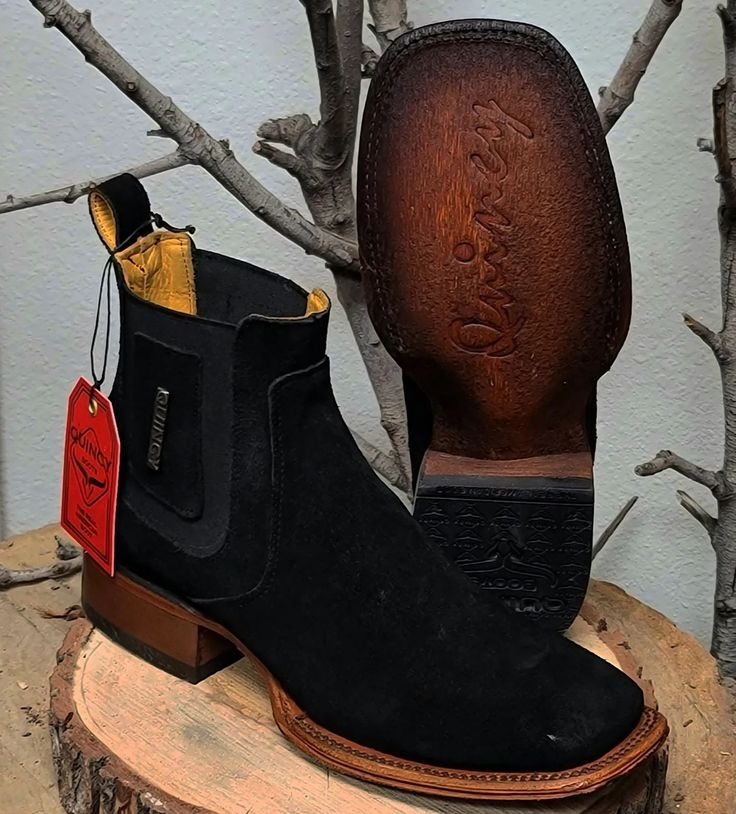gamuza: (110, 245, 645, 771)
